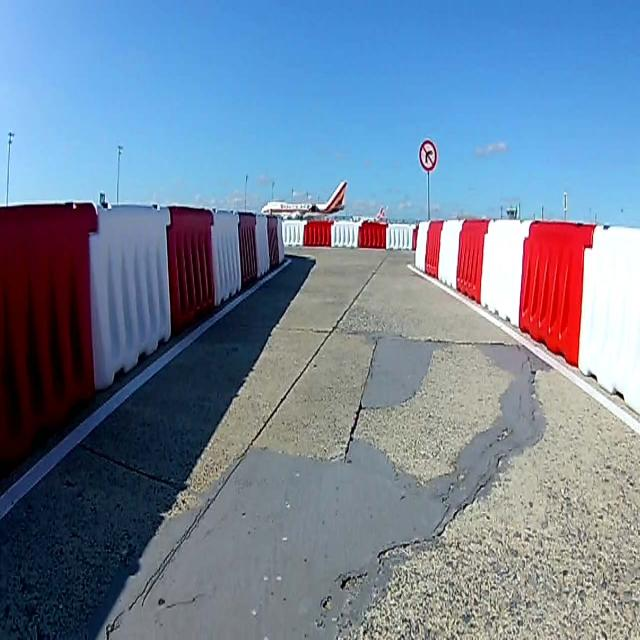sagadonulmez: (419, 140, 438, 172)
